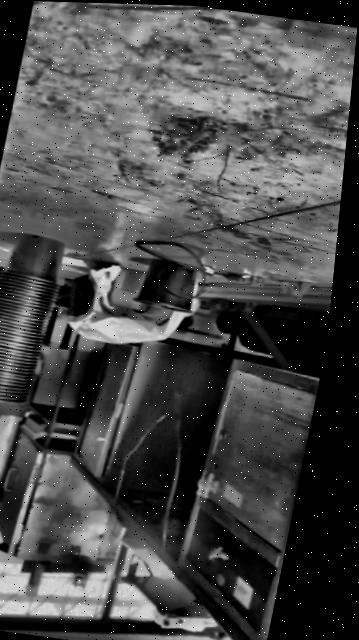pot: (133, 259, 200, 315)
